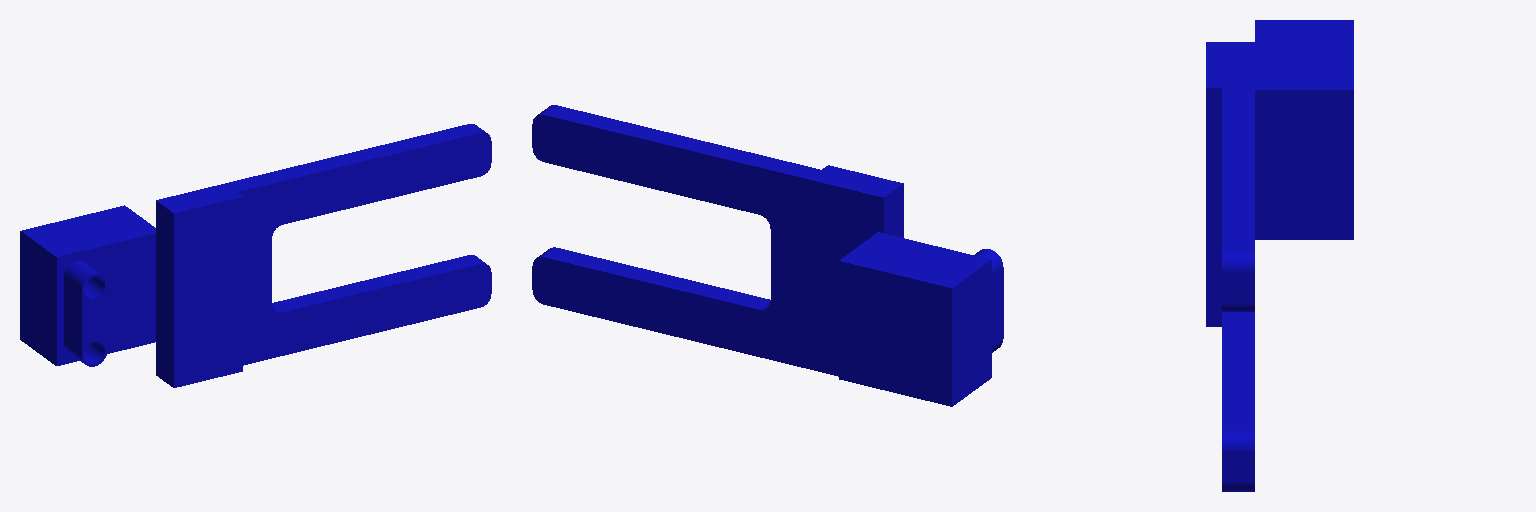
URDF robot description (custom_object):
<?xml version="1.0"?>
<robot name="custom_object">
    <link name="base_link">
        <visual>
            <geometry>
                <mesh filename="meshes/Part1_updated.dae" scale="0.001 0.001 0.001"/>
            </geometry>
            <material name="blue">
                <color rgba="0.1 0.1 0.8 1"/>
            </material>
        </visual>
        <collision>
            <geometry>
                <mesh filename="meshes/Part1_updated.dae" scale="0.001 0.001 0.001"/>
            </geometry>
        </collision>
        <inertial>
            <mass value="1.0"/>
            <origin xyz="0 0 0" rpy="0 0 0"/>
            <inertia ixx="0.1" ixy="0.0" ixz="0.0" iyy="0.1" iyz="0.0" izz="0.1"/>
        </inertial>
    </link>
</robot>

--- Render facts (derived) ---
The picture shows the robot from 3 angles, left to right: view 1: azimuth 30°, elevation 25°; view 2: azimuth 150°, elevation 25°; view 3: azimuth 270°, elevation 25°; orthographic projection.
Robot: custom_object — 1 links, 0 joints (none); root link base_link; default pose: all joints at 0.
Visible links, largest first — view 1: base_link; view 2: base_link; view 3: base_link.
Link boxes in pixels (box(x1,y1,x2,y2)): base_link: box(20, 124, 491, 387); base_link: box(532, 105, 1003, 406); base_link: box(1206, 20, 1353, 491).
Bounding box of the posed robot: 0.2025 × 0.045 × 0.08 m (x, y, z).
Meshes: 1 distinct files referenced, 1 mesh visuals loaded (1 Collada DAE).